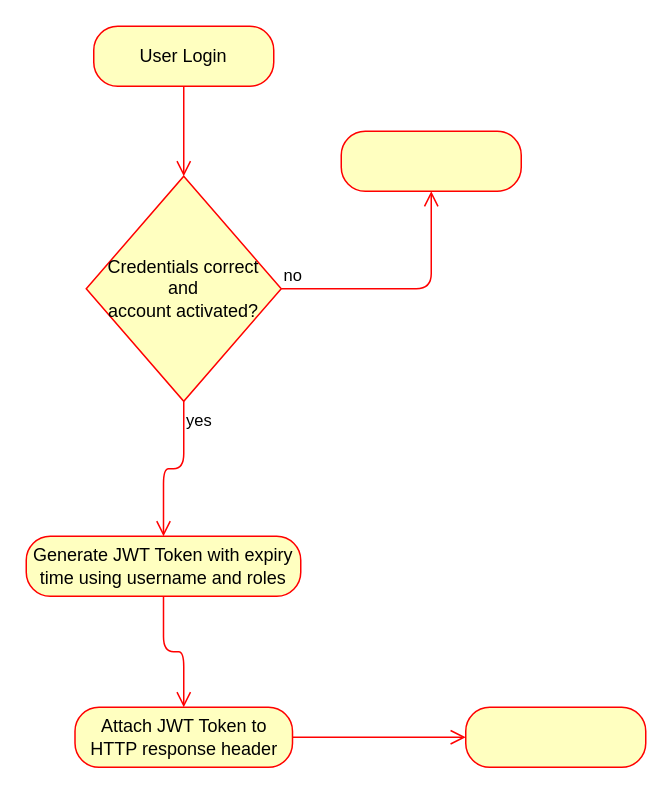
Some shapes in this 672 by 794 pixel diagram are drawn without their labels. Each missing label, with the centre of its shape:
Alert User: the point at 430,160
Send the response to user: the point at 555,736
